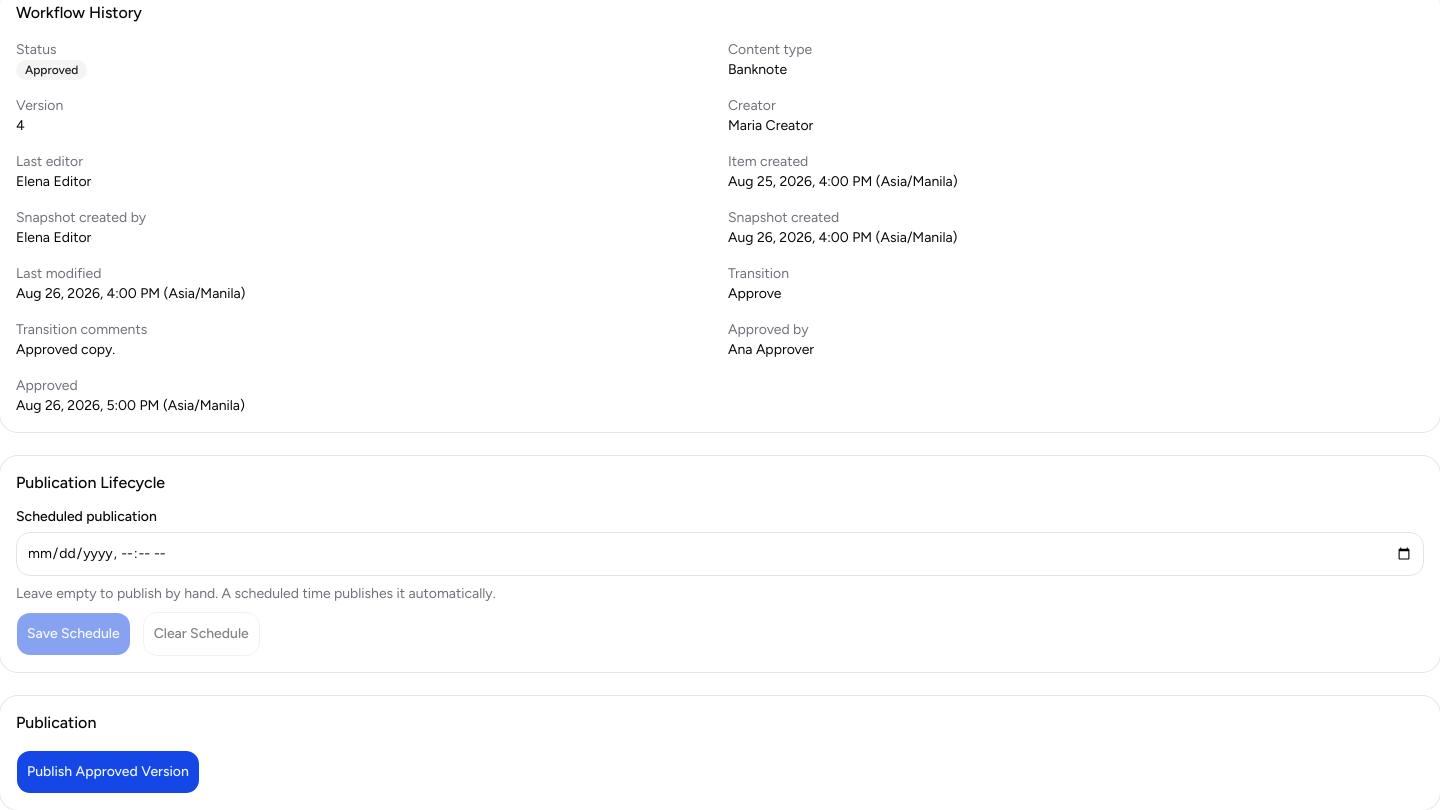
ContentReviewView › closes a failed publish dialog, focuses safe error copy, and permits retry
The width and height of the screenshot is (1440, 810).
(page scrolled)
Click the button "Publish Approved Version". click: click(108, 772)
box: x1=16 y1=750 x2=200 y2=794
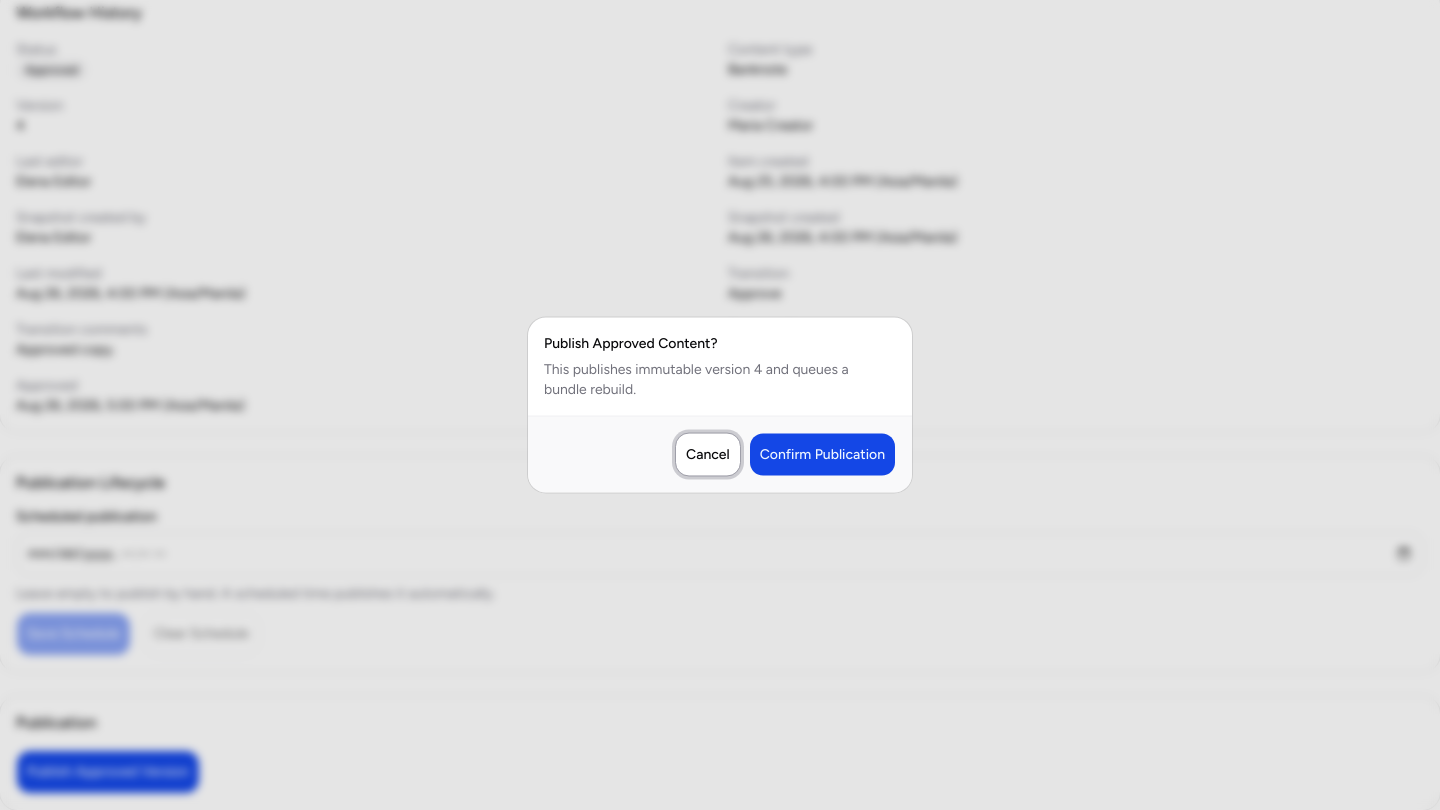
Click the button "Confirm Publication". click: click(822, 454)
box: x1=749 y1=432 x2=896 y2=476
(page scrolled)
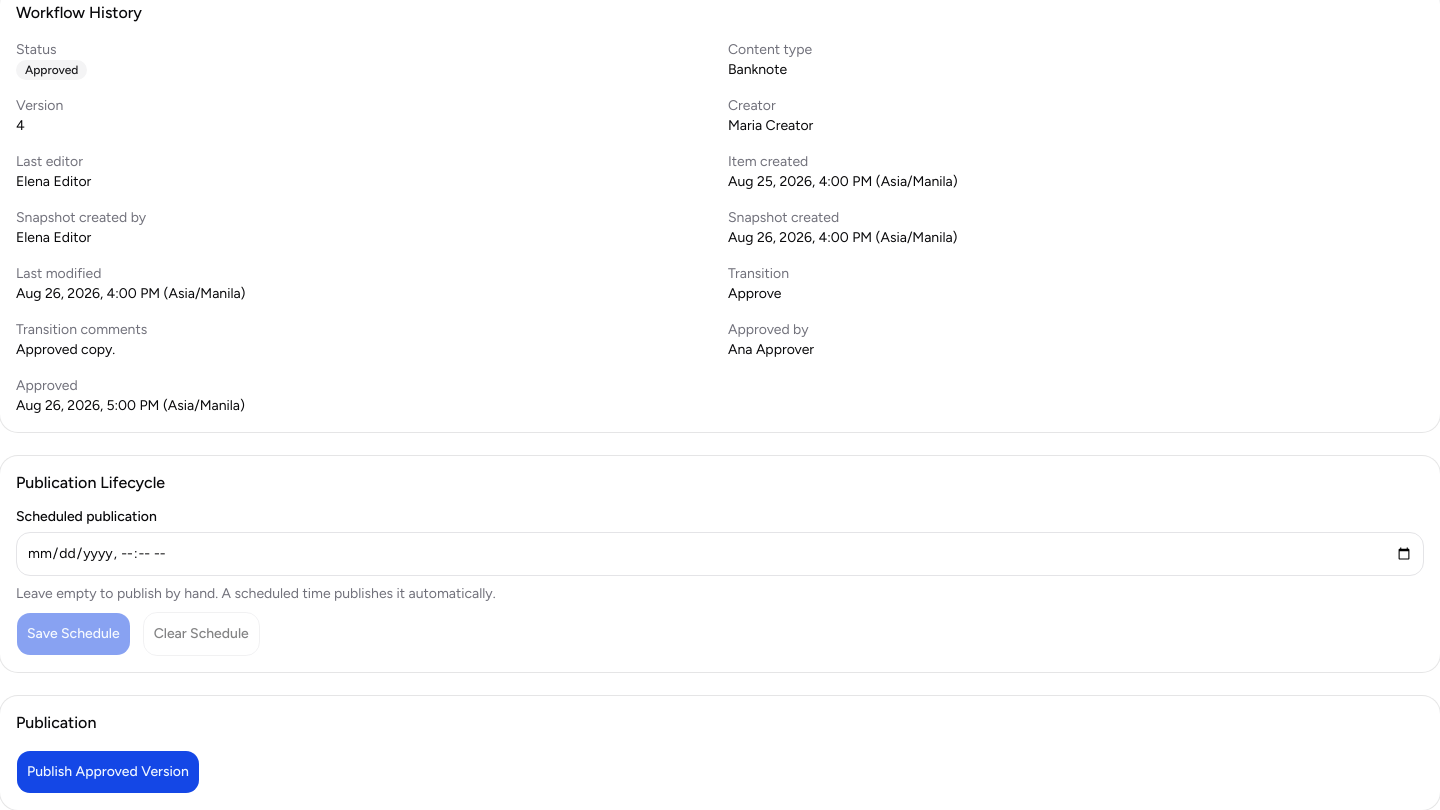
Now the dialog is gone
Click the button "Publish Approved Version". click: click(108, 772)
box: x1=16 y1=750 x2=200 y2=794
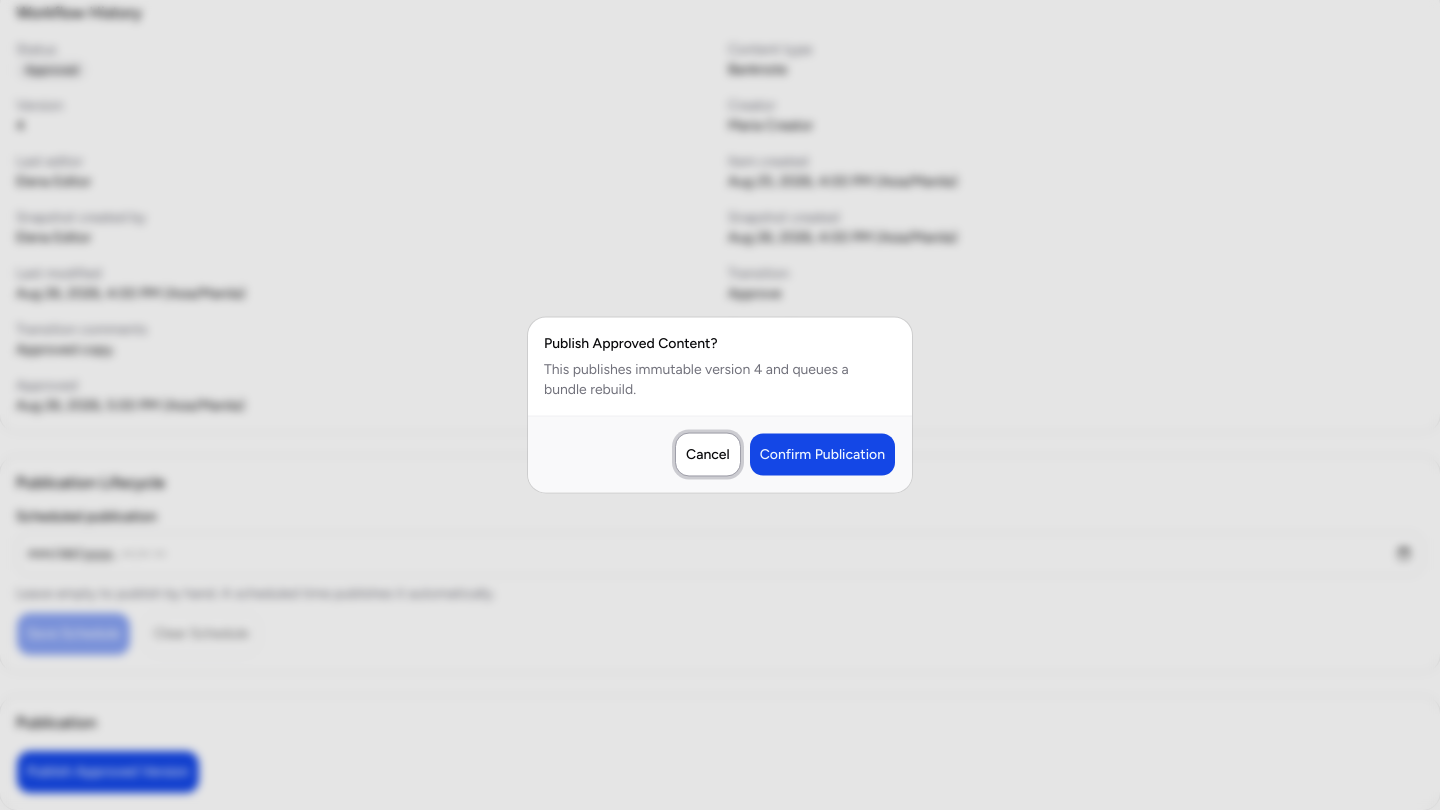
Now the dialog is shown, box x1=528 y1=318 x2=912 y2=492
